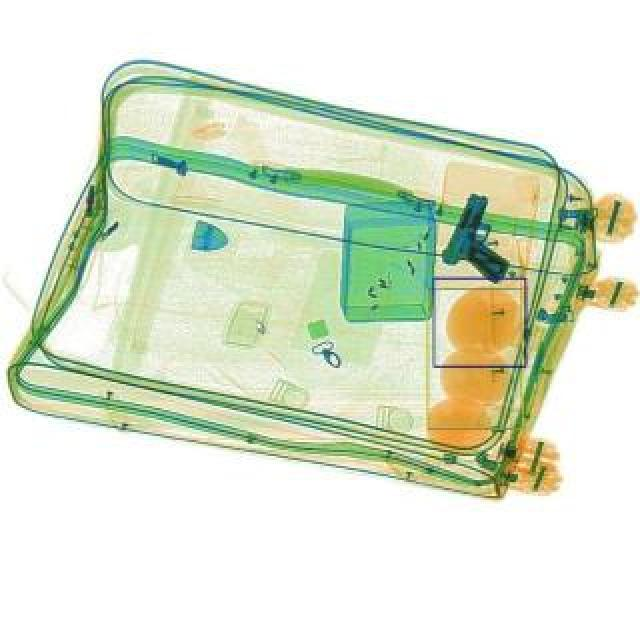gun: (442, 190, 528, 282)
